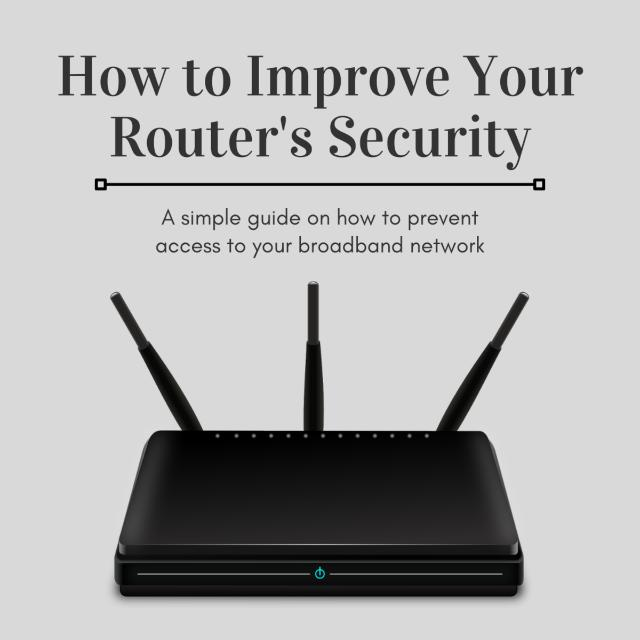Router: (107, 293, 530, 600)
